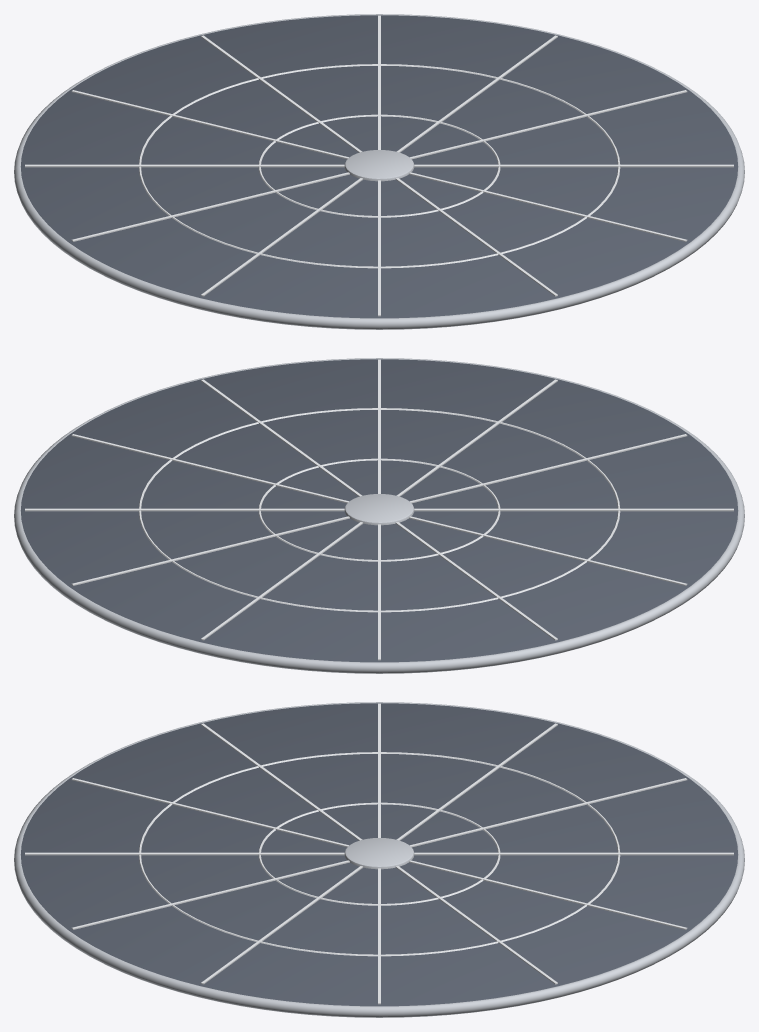
Rendered from turntable.glb.
The picture shows the model from 3 angles, top to bottom: view 1: azimuth 30°, elevation 25°; view 2: azimuth 150°, elevation 25°; view 3: azimuth 270°, elevation 25°; orthographic projection.
Parts seen in each view (by area): view 1: Cylinder; view 2: Cylinder; view 3: Cylinder.
Part boxes in pixels (bbox=[...]): Cylinder: bbox=[14, 14, 744, 329]; Cylinder: bbox=[14, 358, 744, 673]; Cylinder: bbox=[14, 702, 744, 1017].
Size of the model in its own units: 14.64 by 0.36 by 14.64.
